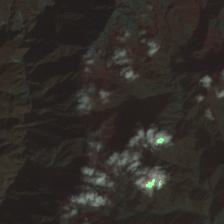landslides: (105, 205, 116, 215), (9, 55, 21, 64)
